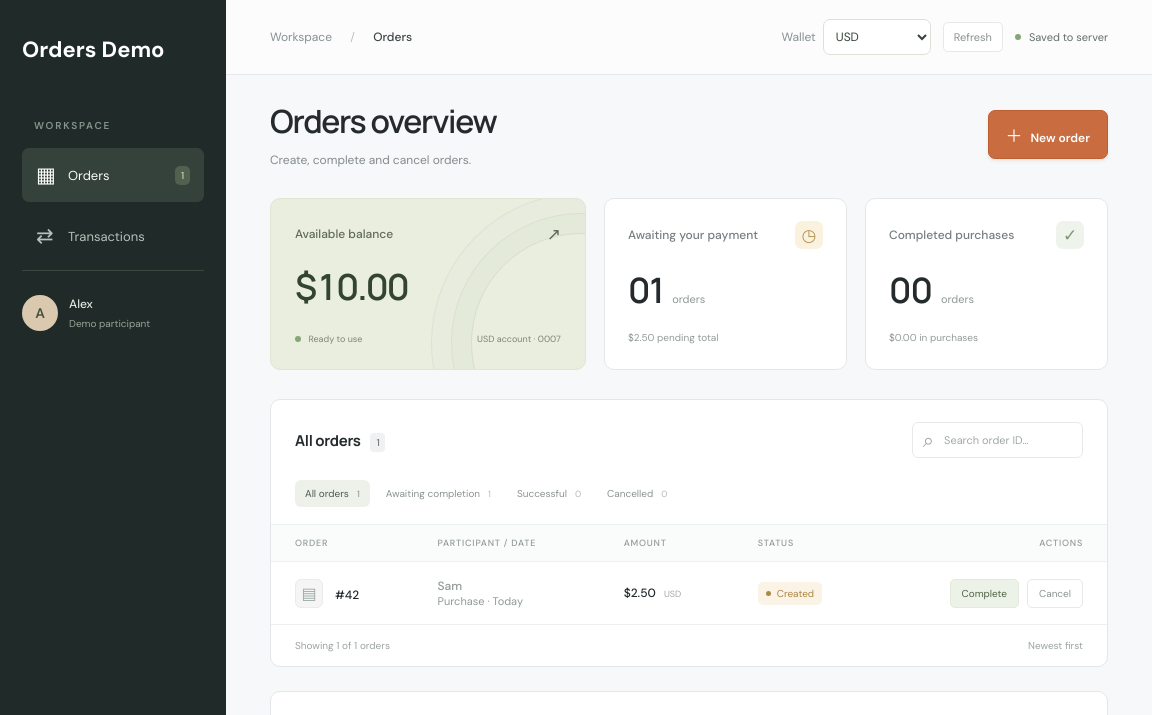
Scenario: OrdersDashboard › completes through the correct endpoint and refreshes balance, status and transactions
The image size is (1152, 715).
Click the button "Complete" at {"x": 984, "y": 593}, box [950,579,1019,608]
(page scrolled)
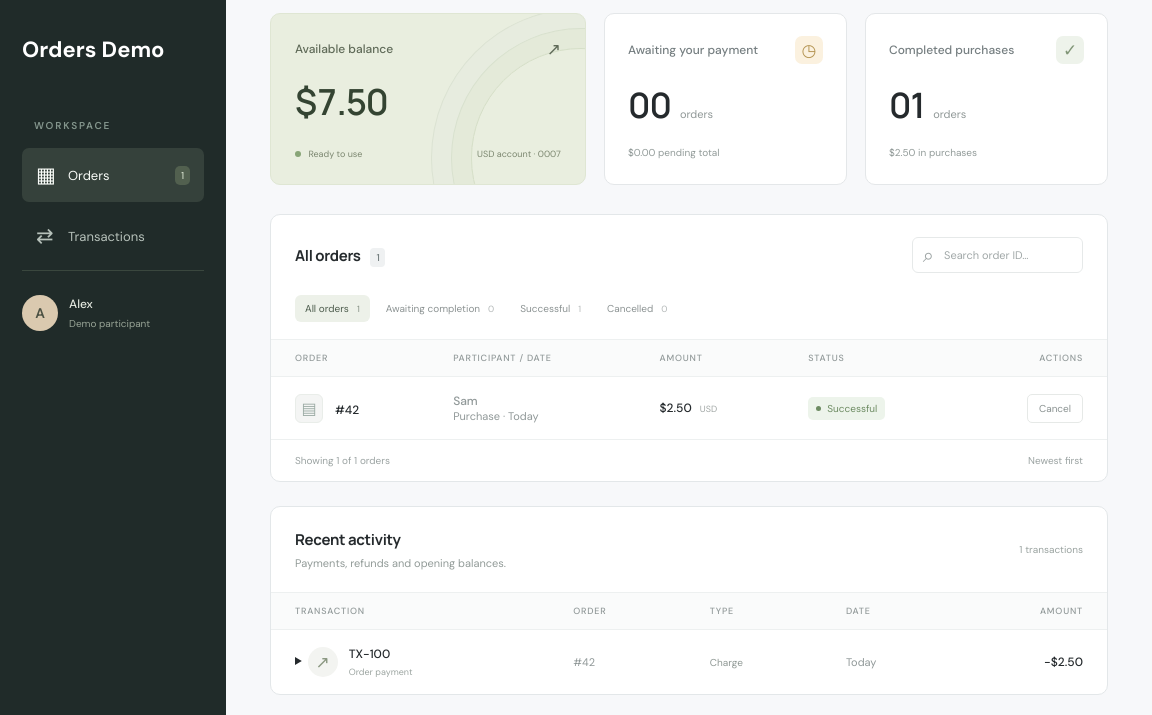
Result: the text named "Balance" shows "7.50" at [295,77,387,126]
Result: the row "#42" shows "successful" at [827,402,877,415]
Result: the text "charge" is shown at [710,656,743,669]
